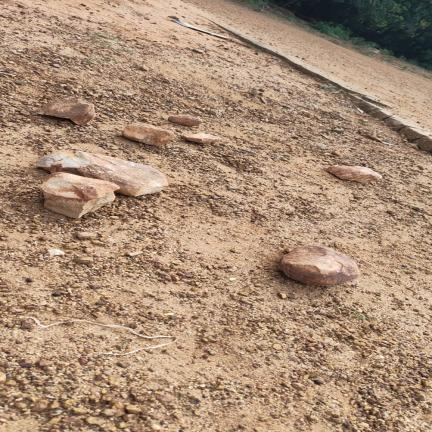Rocks: (37, 152, 168, 196), (42, 173, 118, 218), (279, 246, 360, 285), (39, 99, 95, 125), (123, 123, 174, 146), (328, 166, 381, 183), (181, 133, 221, 144), (399, 127, 426, 141), (169, 115, 201, 126), (414, 136, 432, 152), (385, 117, 405, 130), (31, 400, 48, 412), (358, 102, 377, 112), (369, 110, 390, 119), (86, 417, 106, 426), (76, 232, 97, 239), (74, 257, 94, 264), (160, 394, 175, 402), (126, 405, 141, 413), (36, 360, 53, 367), (71, 407, 88, 414), (101, 409, 117, 416), (48, 249, 64, 256), (291, 383, 305, 391), (117, 361, 130, 367), (0, 372, 6, 383), (332, 128, 344, 133), (273, 344, 282, 350), (332, 151, 342, 156), (192, 49, 204, 53)
